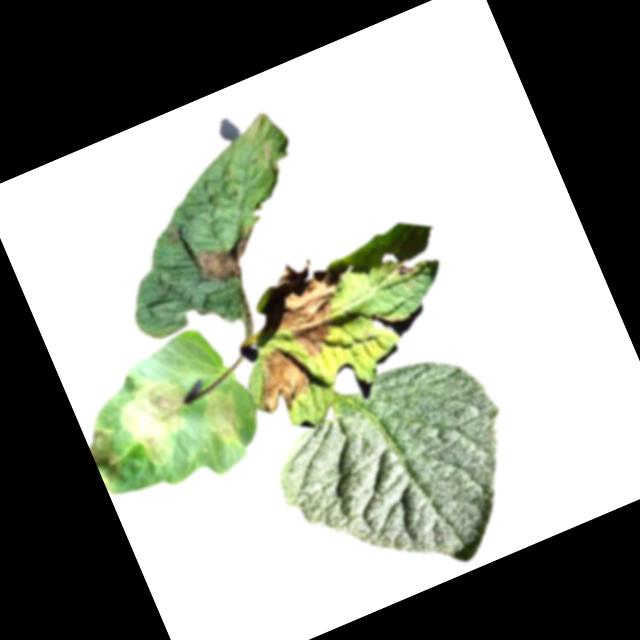Late_blight: (259, 246, 372, 367), (108, 370, 207, 472), (244, 337, 320, 421), (187, 225, 268, 292), (192, 382, 251, 451), (83, 420, 132, 483), (389, 255, 416, 279)
healthy: (255, 338, 546, 618)
